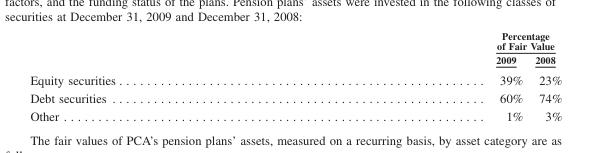table: (29, 29, 561, 122)
table column: (29, 29, 305, 122), (305, 29, 528, 122), (528, 29, 561, 122)
table column header: (29, 29, 561, 68)
table row: (29, 29, 561, 52), (29, 68, 561, 88), (29, 88, 561, 106), (29, 52, 561, 68), (29, 106, 561, 122)
table spanning cell: (305, 29, 561, 52)
